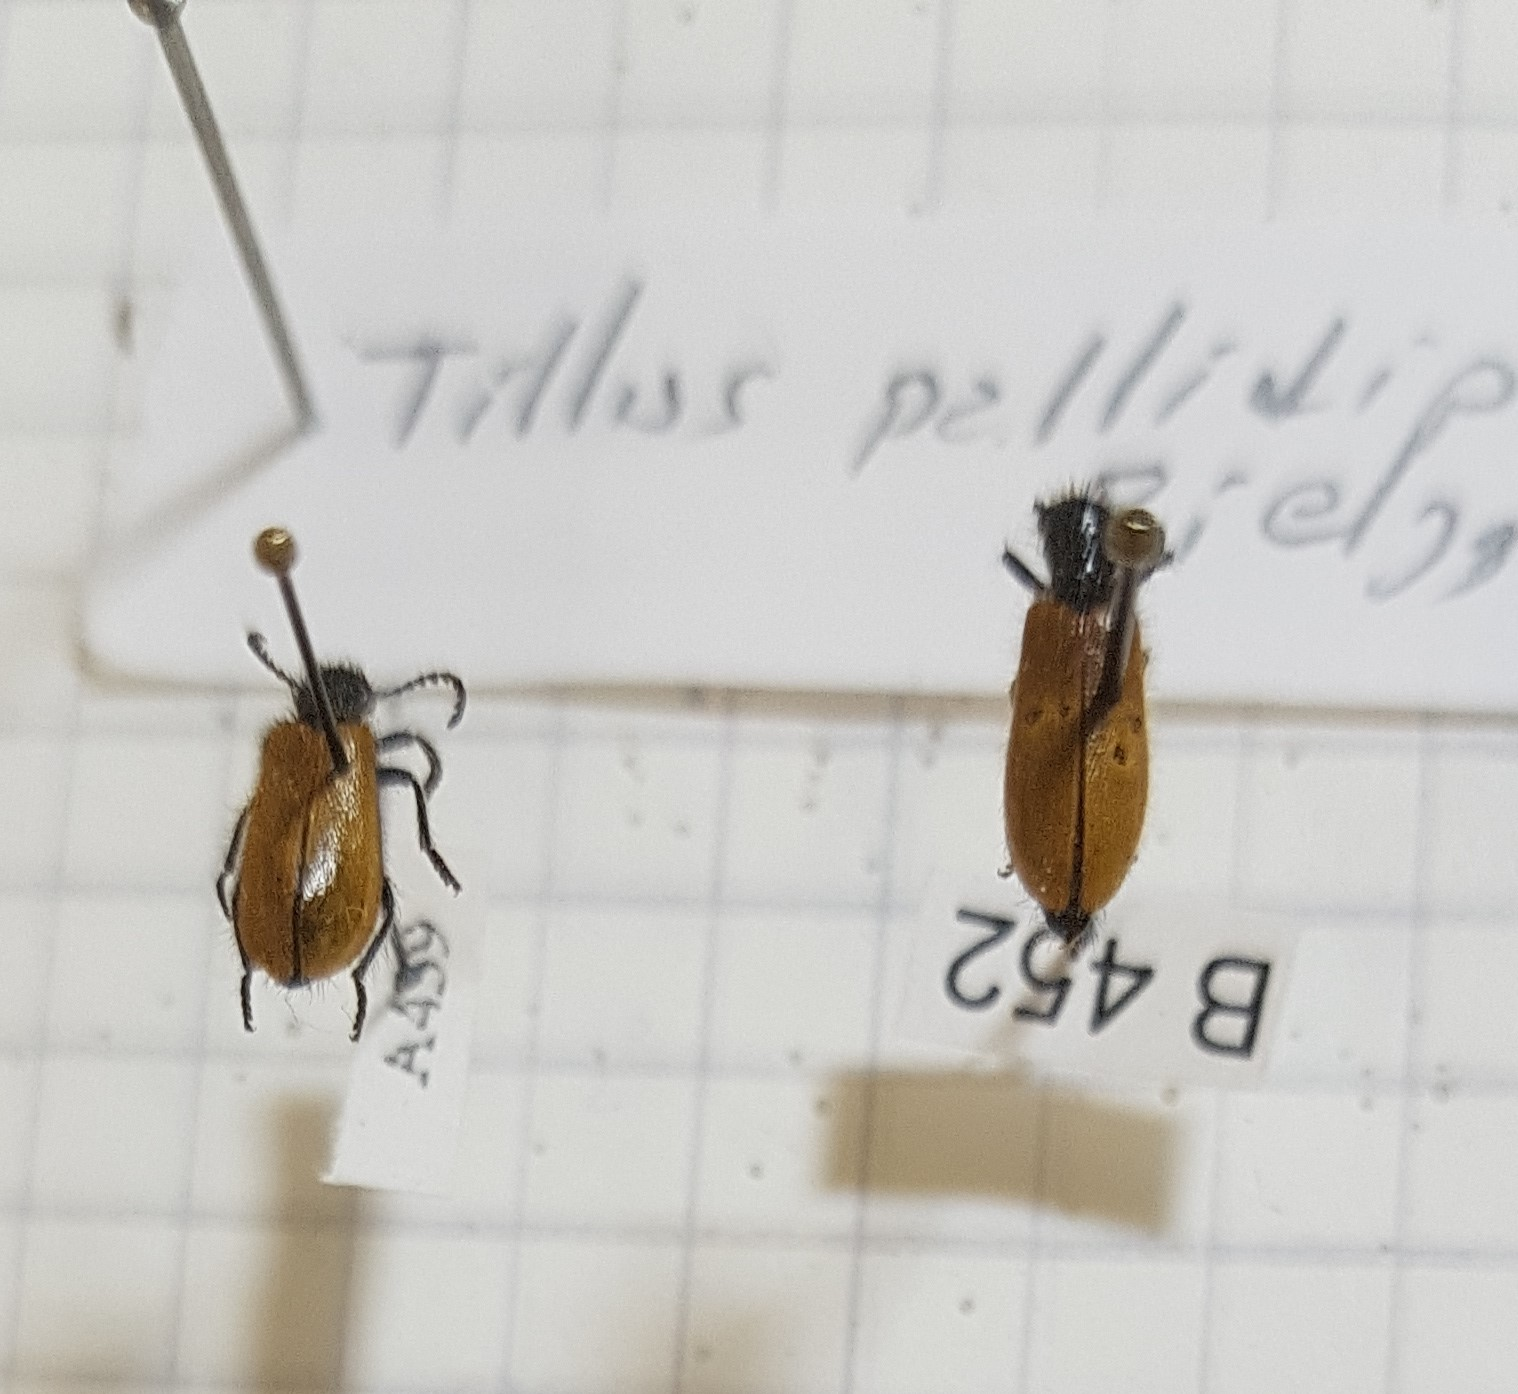tillus_pallidipennis: (205, 622, 483, 1055), (1002, 477, 1194, 972)
